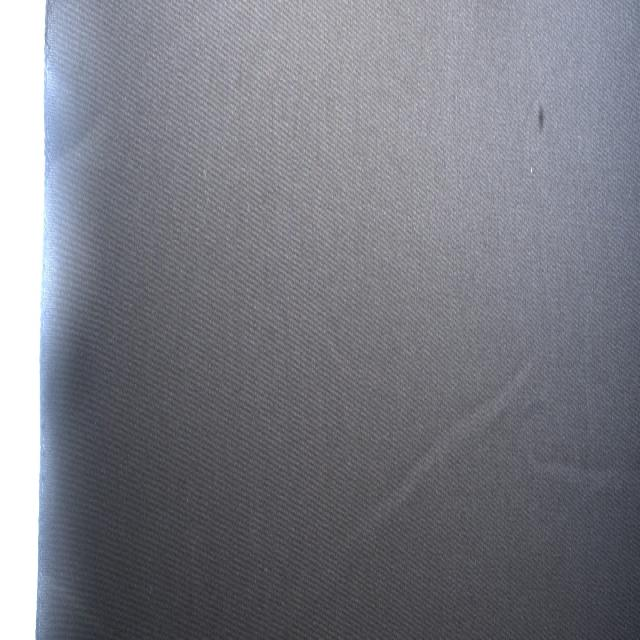crease: (349, 339, 541, 547), (539, 451, 640, 492), (64, 101, 109, 162)
whiteDefect: (530, 159, 534, 182)
